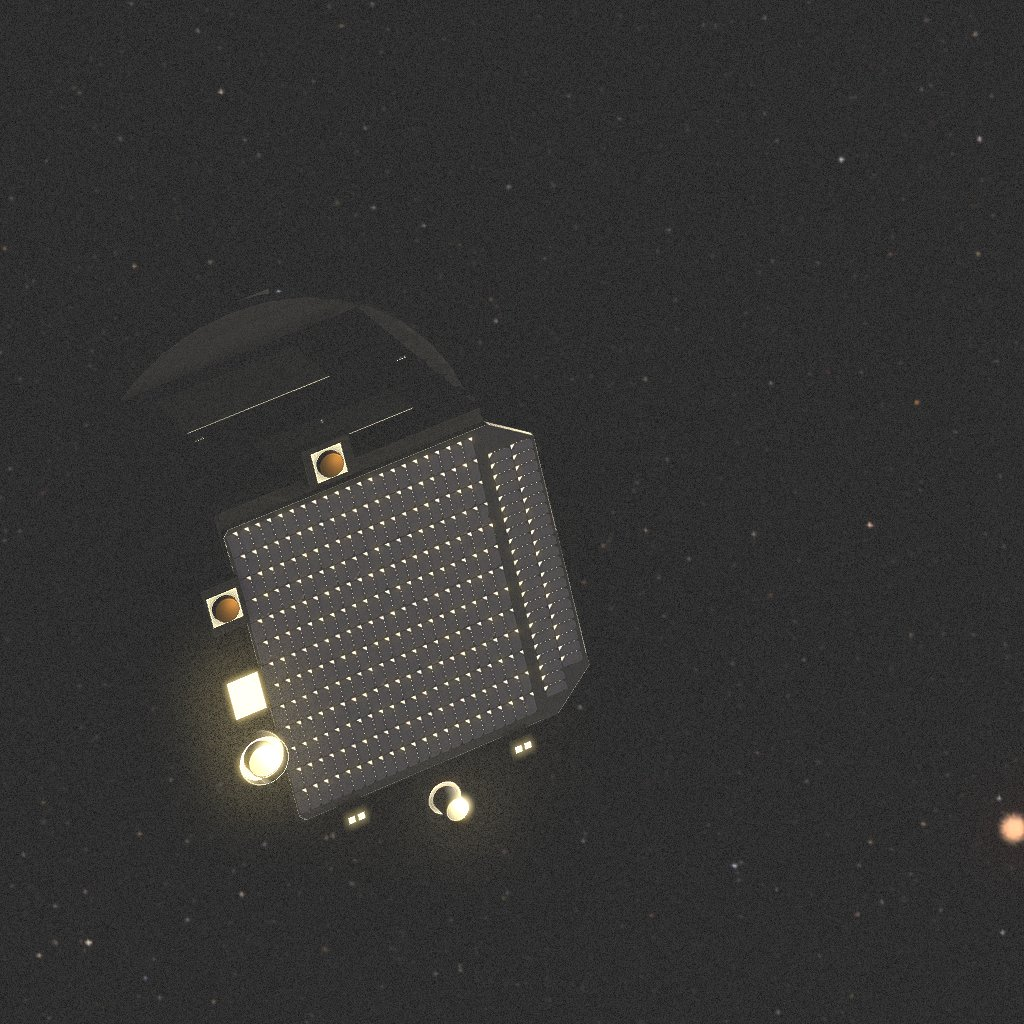proba_3_ocs: (68, 289, 589, 832)
